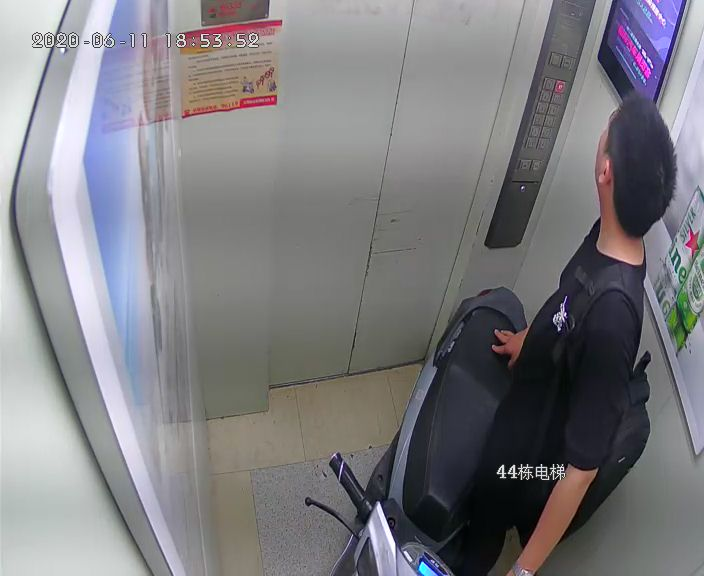Electric-bicycle: (355, 285, 529, 576)
